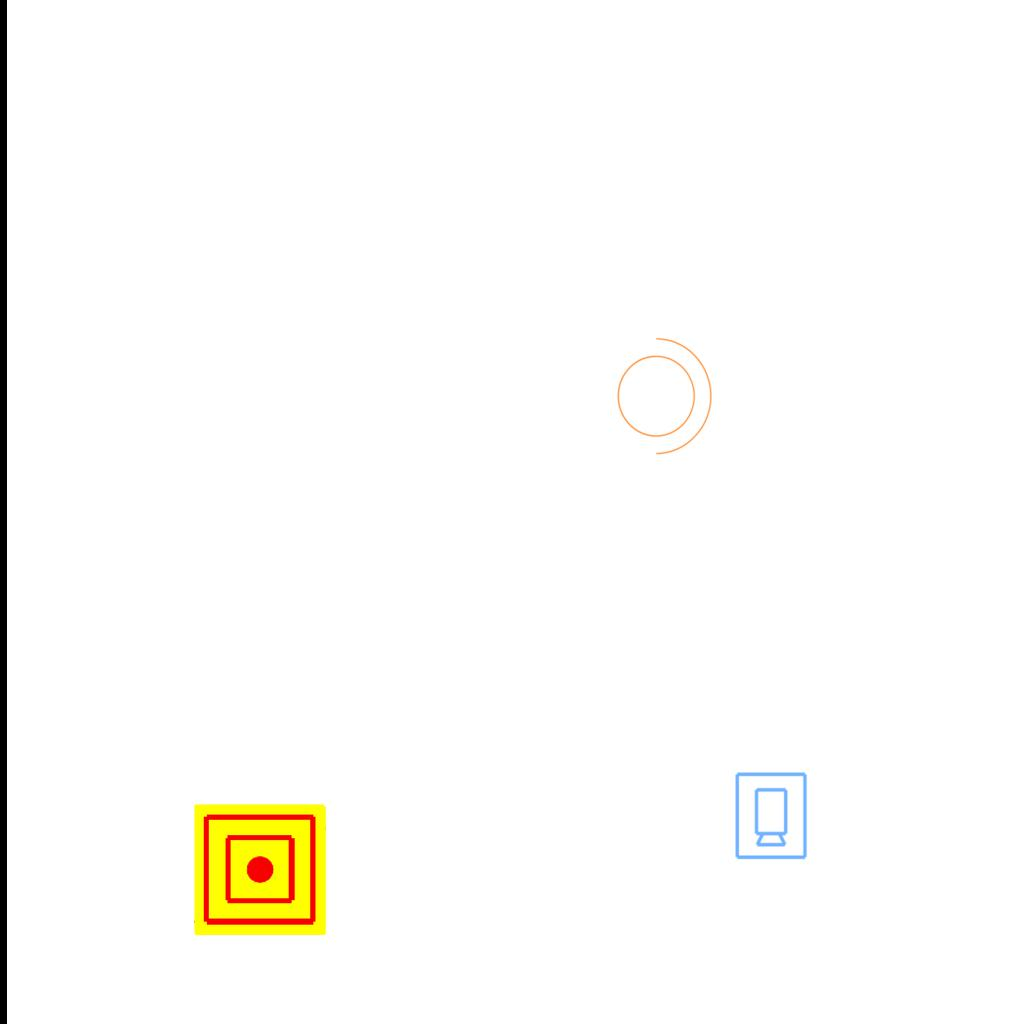KFO_Kamera_mit_Festobjektiv: (732, 770, 809, 861)
NAM-Nichtautomatischer_Melder: (194, 804, 326, 936)
Scheinwerfer_fuer_Alarmbeleuchtung: (605, 327, 717, 459)
